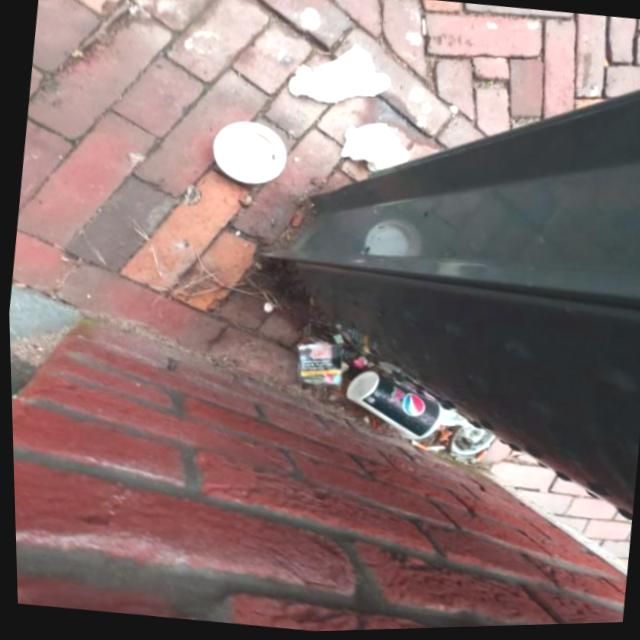Cup: (336, 366, 445, 447)
Paper: (282, 35, 395, 113), (204, 115, 290, 190), (334, 117, 413, 179), (282, 336, 350, 393)
